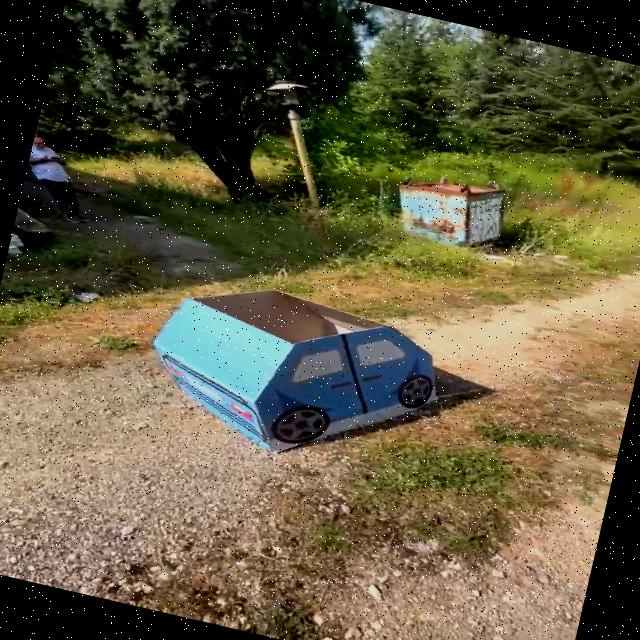blue_car: (116, 240, 482, 496)
